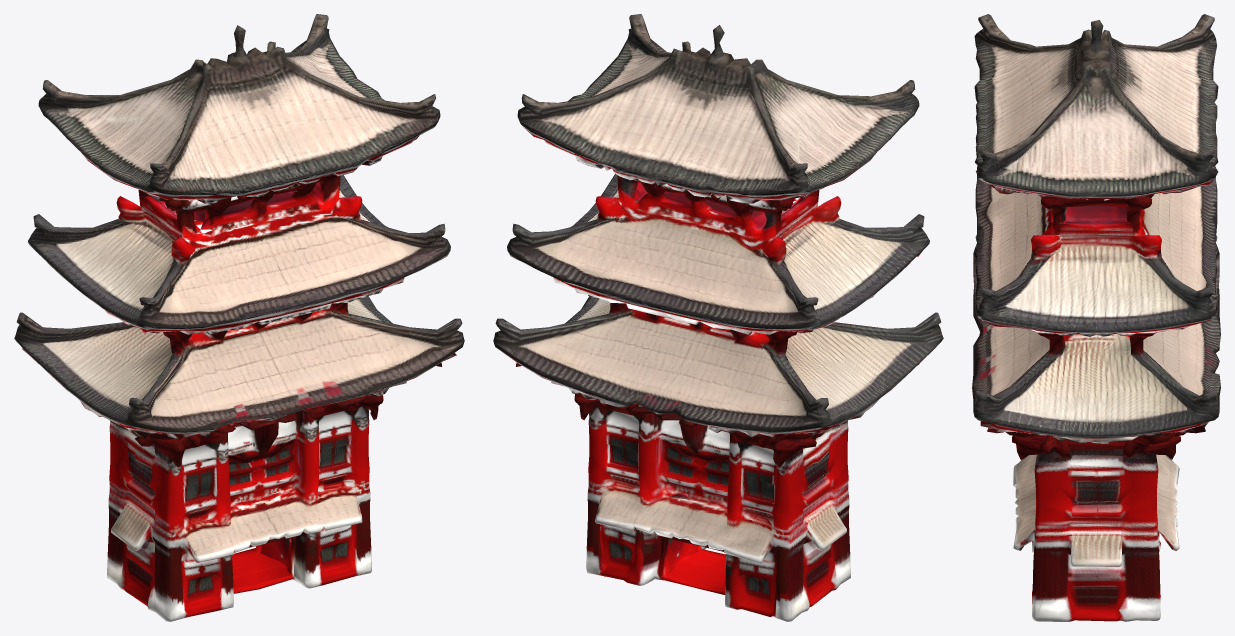
The model's file is pagoda.glb.
3 renders of one model, left to right at view 1: azimuth 30°, elevation 25°; view 2: azimuth 150°, elevation 25°; view 3: azimuth 270°, elevation 25°, orthographic.
Bounding box in the file's own units: 1.22 × 1.91 × 0.7789.
Materials: 1 (1 with a texture image).
